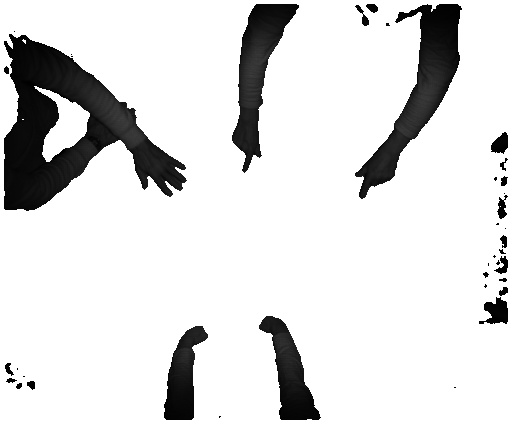fist: (173, 320, 207, 345), (256, 312, 287, 336)
hand: (137, 146, 191, 199), (352, 148, 402, 199), (232, 120, 263, 175)
